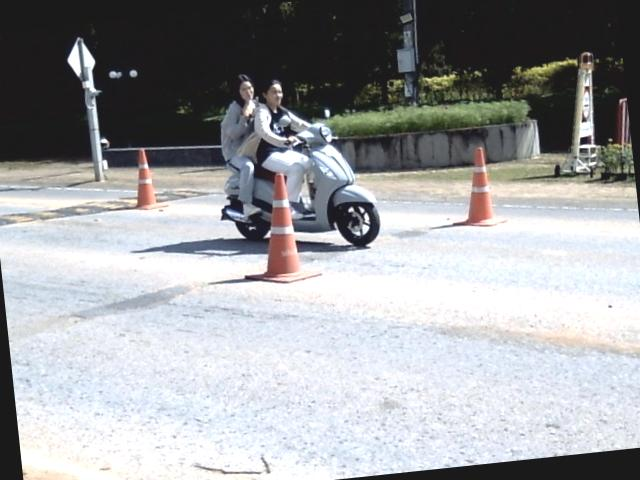motor: (293, 123, 380, 245), (221, 163, 274, 239)
no-helmet: (256, 77, 289, 108), (230, 74, 254, 106)
person: (239, 80, 310, 218), (220, 75, 260, 215)
